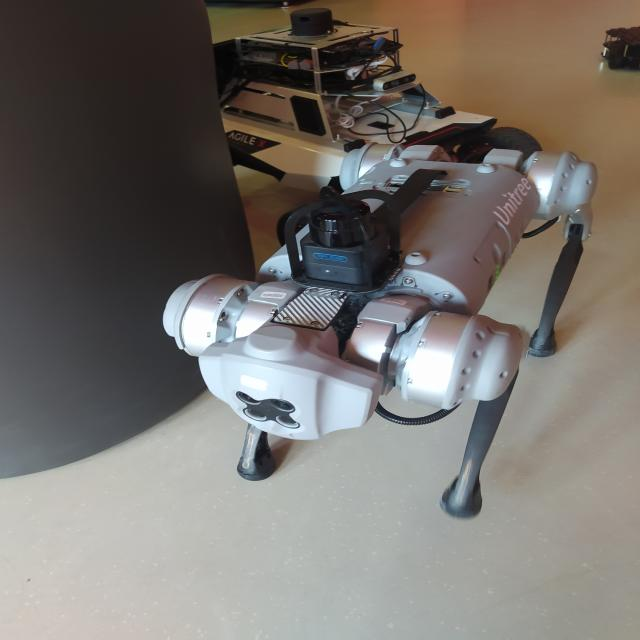unitree-go1-robot: (154, 132, 609, 547)
